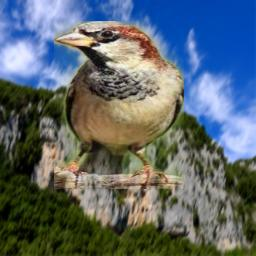Sparrow: (54, 21, 184, 189)
